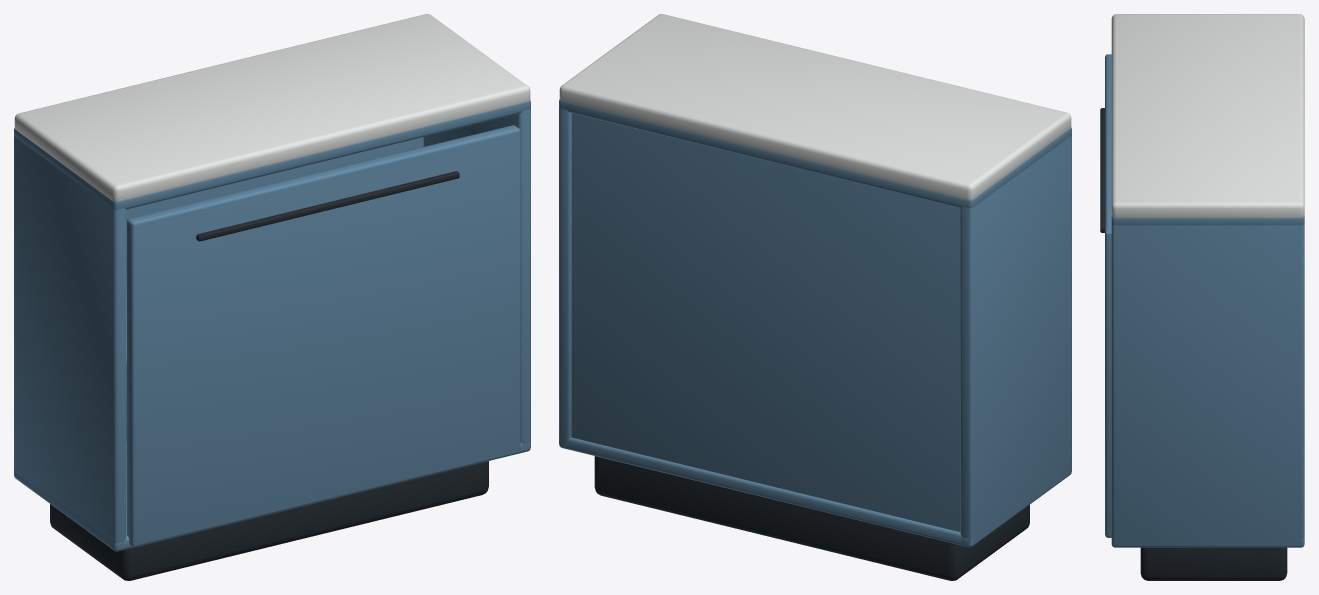
Rendered from wall-cabinet.glb.
The picture shows the model from 3 angles, left to right: view 1: azimuth 30°, elevation 25°; view 2: azimuth 150°, elevation 25°; view 3: azimuth 270°, elevation 25°; orthographic projection. The views are drawn at different scales.
Visible parts, largest first — view 1: catalog_surface_RealismUV, catalog_surface_UVMap; view 2: catalog_surface_RealismUV, catalog_surface_UVMap; view 3: catalog_surface_RealismUV, catalog_surface_UVMap.
Part boxes in pixels (bbox=[...]): catalog_surface_RealismUV: bbox=[14, 100, 530, 551]; catalog_surface_UVMap: bbox=[14, 14, 530, 580]; catalog_surface_RealismUV: bbox=[559, 99, 1071, 547]; catalog_surface_UVMap: bbox=[559, 14, 1071, 580]; catalog_surface_RealismUV: bbox=[1105, 54, 1304, 547]; catalog_surface_UVMap: bbox=[1100, 14, 1304, 580].
Size of the model in its own units: 0.8 by 0.76 by 0.36.
